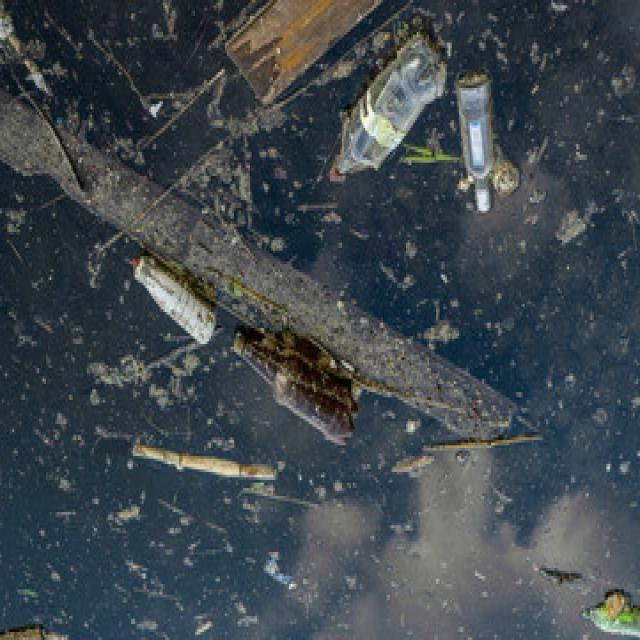Glass: (225, 330, 358, 444), (458, 70, 495, 217)
Plastic: (321, 36, 452, 185), (124, 254, 221, 350), (580, 589, 640, 639)
Trash: (258, 552, 300, 602)
